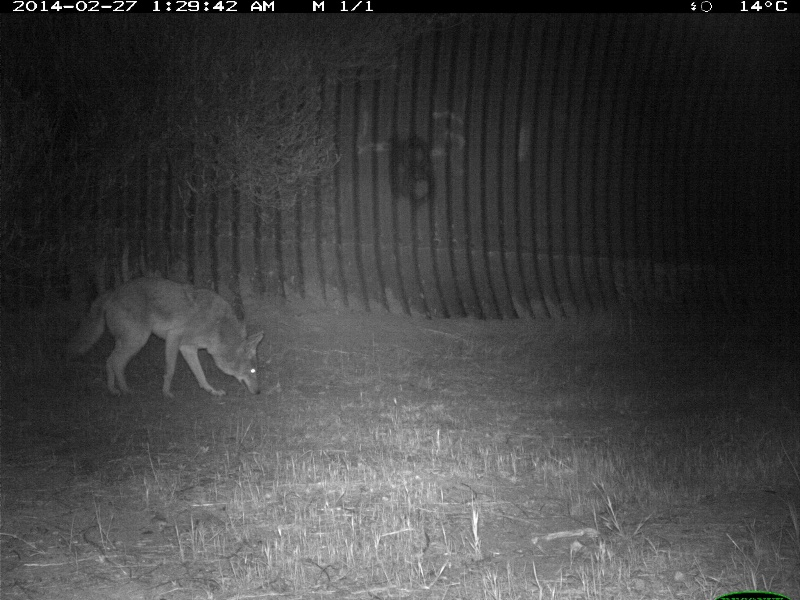coyote: (70, 270, 270, 402)
